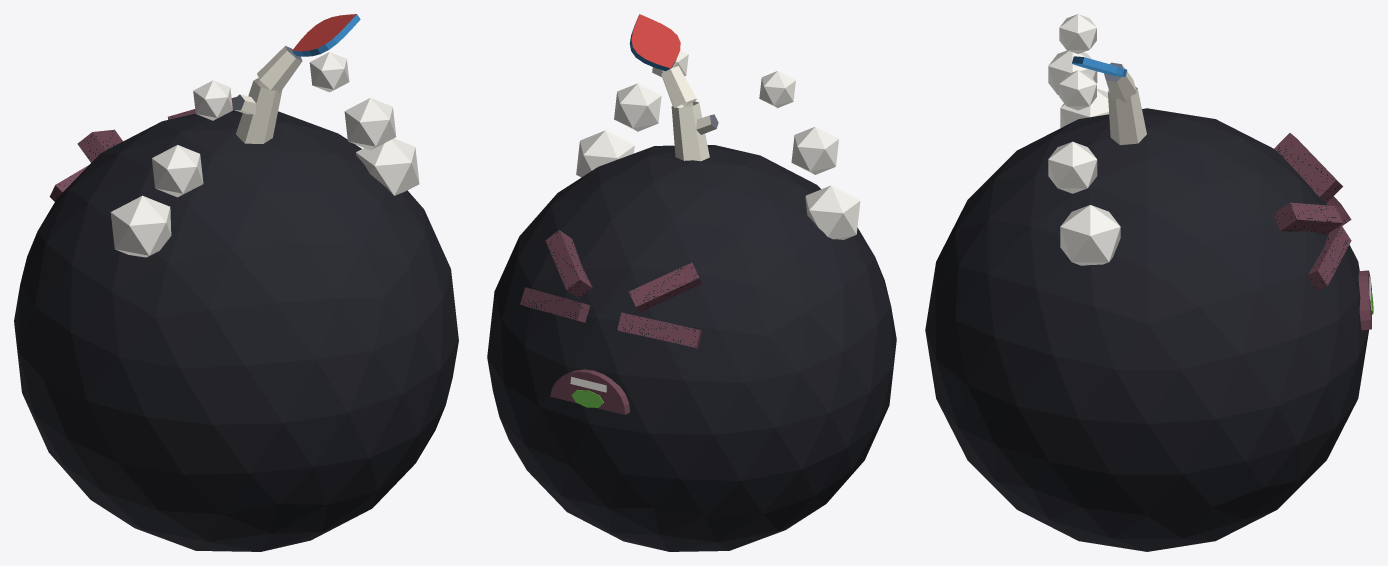
File: CH_Dalcik_T5_Blink.fbx
3 views of the same model, side by side, from view 1: azimuth 30°, elevation 25°; view 2: azimuth 150°, elevation 25°; view 3: azimuth 270°, elevation 25° (orthographic). The views are drawn at different scales.
Parts seen in each view (by area): view 1: CH_Dalcik_T5_Blink; view 2: CH_Dalcik_T5_Blink; view 3: CH_Dalcik_T5_Blink.
Boxes of the visible parts, x1,y1,x2,y2 form: CH_Dalcik_T5_Blink: (14,14,458,551); CH_Dalcik_T5_Blink: (487,14,896,551); CH_Dalcik_T5_Blink: (925,14,1373,551).
Bounding box in the file's own units: 1 × 1.29 × 1.01.
